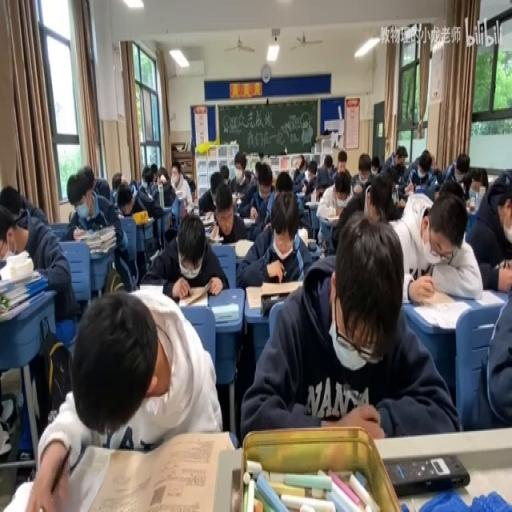calculator: (75, 430, 236, 510), (410, 295, 474, 327), (245, 280, 302, 309), (177, 282, 213, 307), (210, 300, 238, 322), (136, 282, 170, 300), (474, 288, 504, 306), (232, 236, 254, 256), (199, 212, 216, 232), (468, 189, 478, 211), (296, 225, 307, 243), (318, 212, 340, 220), (157, 182, 163, 206), (242, 214, 256, 224), (206, 144, 217, 156), (403, 182, 414, 193), (204, 232, 218, 240), (306, 198, 319, 206), (190, 202, 199, 213), (296, 191, 306, 196)
paper: (240, 212, 451, 439), (0, 192, 81, 449), (62, 165, 130, 294), (465, 256, 512, 429), (142, 212, 228, 297), (467, 171, 512, 283), (201, 181, 248, 246), (326, 189, 364, 256), (132, 168, 166, 240), (242, 161, 274, 229), (1, 184, 47, 230), (367, 171, 404, 222), (402, 148, 438, 200), (350, 151, 373, 193), (314, 152, 334, 198), (88, 165, 110, 201), (380, 145, 406, 174), (436, 179, 466, 202), (292, 158, 310, 193), (467, 166, 487, 196), (334, 174, 350, 204), (274, 170, 293, 194), (181, 166, 195, 196), (117, 189, 132, 213), (454, 155, 469, 176), (208, 171, 221, 195), (156, 166, 170, 186), (111, 172, 123, 192), (234, 152, 246, 172), (337, 154, 347, 176), (219, 165, 229, 185), (370, 154, 380, 174), (149, 162, 158, 184), (432, 165, 442, 181), (130, 179, 138, 196), (306, 168, 316, 180), (253, 159, 259, 178), (429, 155, 436, 169)
person: (386, 452, 470, 494), (307, 239, 317, 250)
